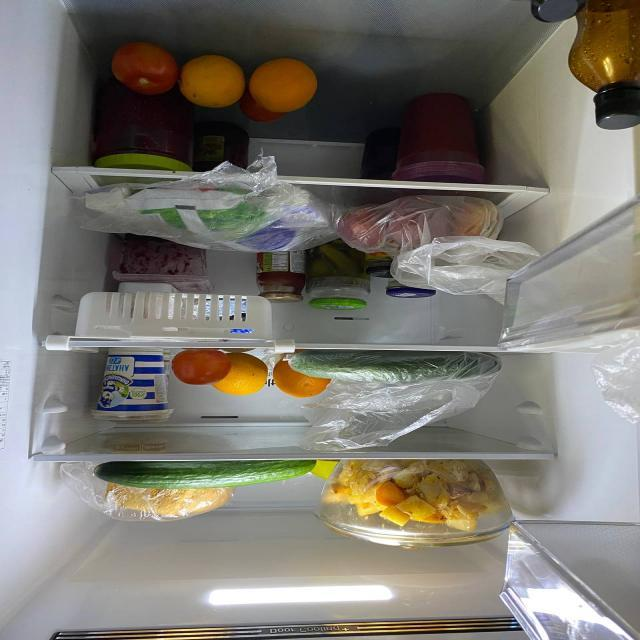Apple: (373, 199, 439, 250), (436, 201, 496, 247), (344, 204, 392, 252)
Cucumber: (88, 458, 314, 489), (295, 351, 501, 376)
Orange: (246, 58, 318, 109), (185, 52, 243, 105), (216, 360, 268, 397), (276, 364, 328, 398)
Tomato: (111, 43, 178, 96), (172, 351, 232, 385), (238, 97, 278, 121)
